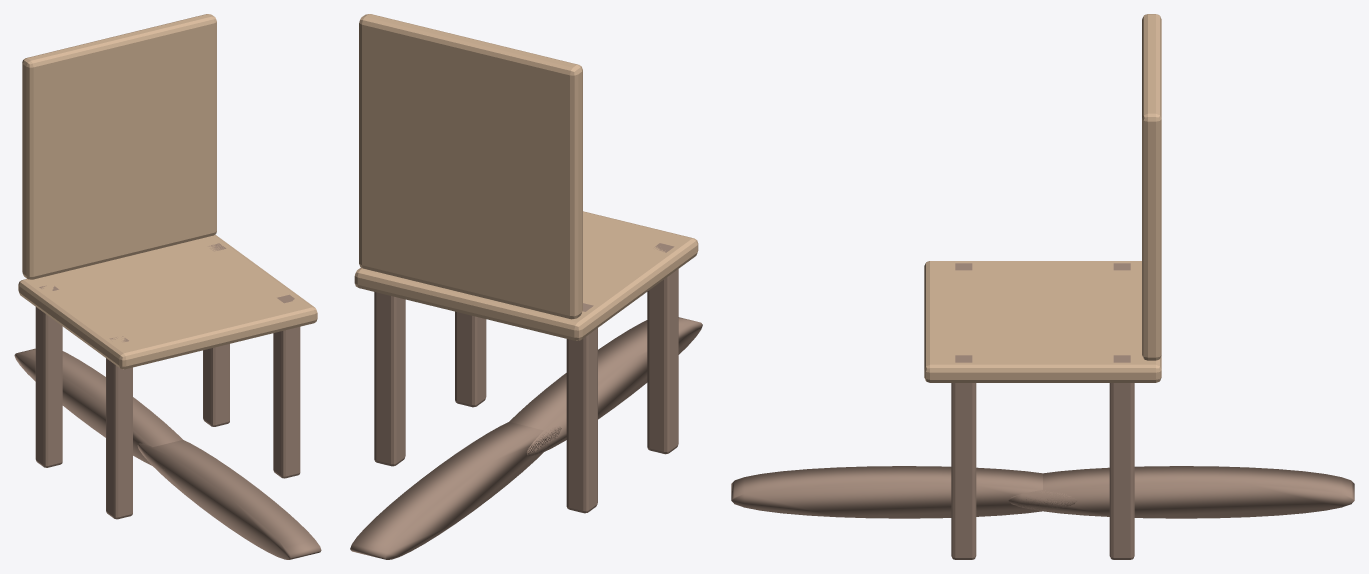
File: rocking_chair.glb
3 views of the same model, side by side, from view 1: azimuth 30°, elevation 25°; view 2: azimuth 150°, elevation 25°; view 3: azimuth 270°, elevation 25° (orthographic). The views are drawn at different scales.
Visible parts, largest first — view 1: Back, Seat, Rocker.001, Rocker, Leg.001, Leg.002, Leg, Leg.003; view 2: Back, Seat, Rocker, Rocker.001, Leg.001, Leg, Leg.003, Leg.002; view 3: Seat, Rocker, Rocker.001, Back, Leg.002, Leg.003.
Boxes of the visible parts, x1=… form: Back: x1=22, y1=14, x2=216, y2=279; Seat: x1=18, y1=234, x2=317, y2=369; Rocker.001: x1=137, y1=440, x2=321, y2=559; Rocker: x1=14, y1=348, x2=182, y2=469; Leg.001: x1=35, y1=285, x2=62, y2=467; Leg.002: x1=273, y1=294, x2=300, y2=478; Leg: x1=106, y1=336, x2=132, y2=519; Leg.003: x1=203, y1=243, x2=229, y2=426; Back: x1=359, y1=14, x2=582, y2=319; Seat: x1=354, y1=211, x2=698, y2=340; Rocker: x1=350, y1=422, x2=561, y2=559; Rocker.001: x1=509, y1=317, x2=702, y2=456; Leg.001: x1=566, y1=303, x2=597, y2=513; Leg: x1=647, y1=243, x2=678, y2=454; Leg.003: x1=374, y1=292, x2=405, y2=466; Leg.002: x1=455, y1=311, x2=486, y2=407; Seat: x1=924, y1=261, x2=1161, y2=382; Rocker: x1=1008, y1=466, x2=1354, y2=518; Rocker.001: x1=731, y1=466, x2=1077, y2=518; Back: x1=1142, y1=14, x2=1161, y2=360; Leg.002: x1=951, y1=355, x2=976, y2=559; Leg.003: x1=1109, y1=355, x2=1134, y2=559.
Bounding box in the file's own units: 0.52 × 0.995 × 1.26.
